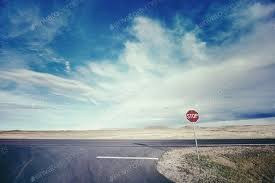Stop: (189, 114, 207, 136)
